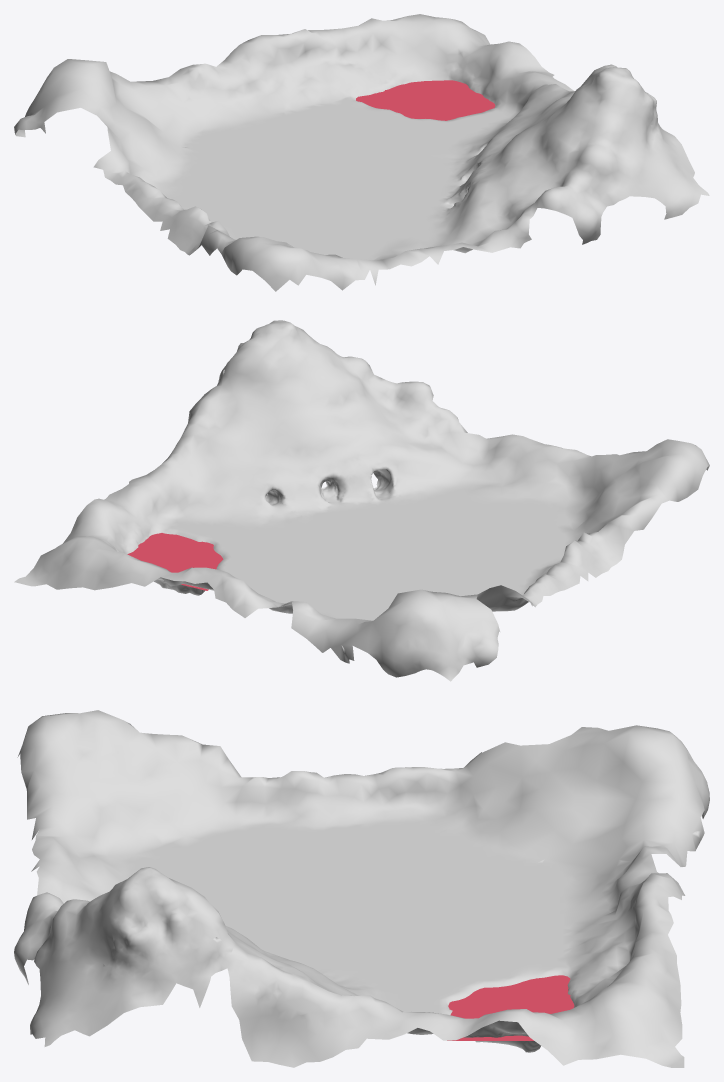
The model's file is Terrain hub.fbx.
3 renders of one model, top to bottom at view 1: azimuth 30°, elevation 25°; view 2: azimuth 150°, elevation 25°; view 3: azimuth 270°, elevation 25°, orthographic. The views are drawn at different scales.
Parts seen in each view (by area): view 1: Plane; view 2: Plane; view 3: Plane.
Boxes of the visible parts, x1,y1,x2,y2 form: Plane: (14, 14, 709, 291); Plane: (14, 320, 709, 681); Plane: (14, 710, 709, 1067).
Size of the model in its own units: 2986 by 891 by 3019.
